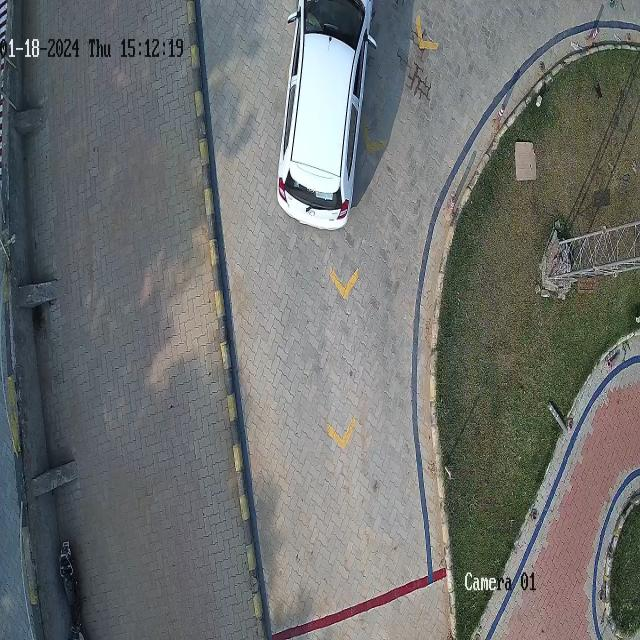car: (278, 0, 376, 230)
